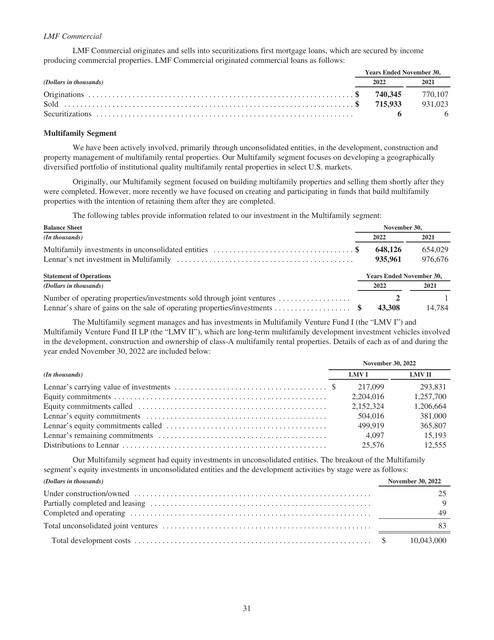box: (41, 223, 452, 314), (40, 361, 448, 450), (43, 478, 449, 546), (41, 69, 452, 116)
